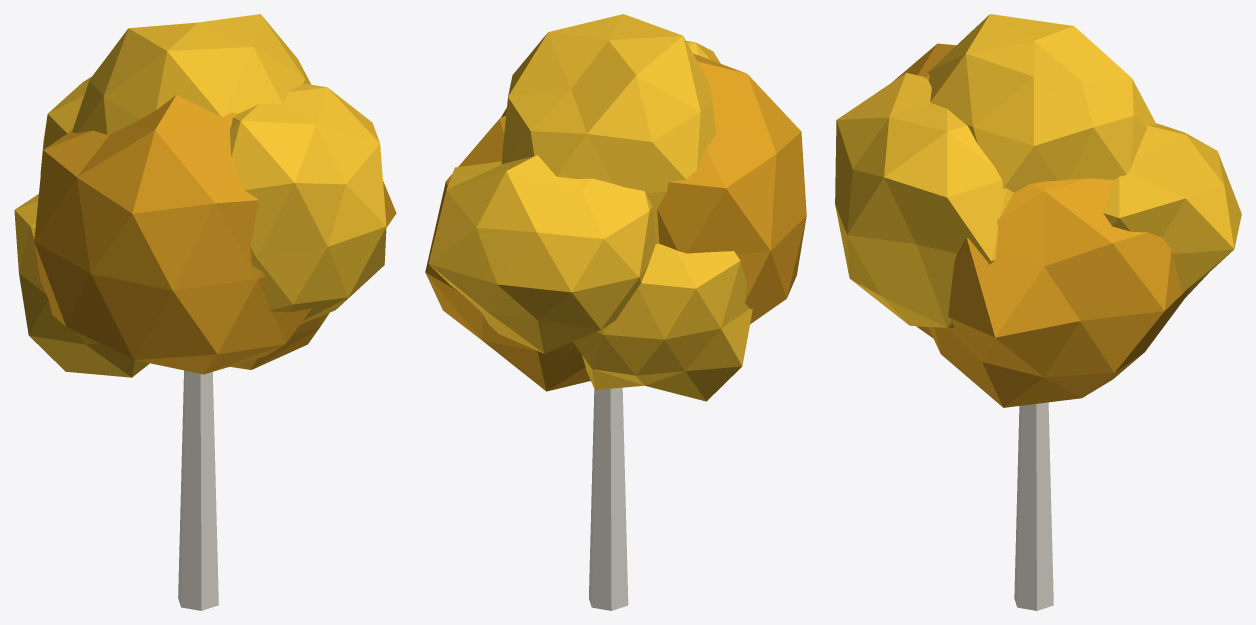
Rendered from tree_birch.glb.
3 views of the same model, side by side, from view 1: azimuth 30°, elevation 25°; view 2: azimuth 150°, elevation 25°; view 3: azimuth 270°, elevation 25° (orthographic). The views are drawn at different scales.
Visible parts, largest first — view 1: tree_birch; view 2: tree_birch; view 3: tree_birch.
Boxes of the visible parts, left/top/right/bottom form: tree_birch: left=14, top=14, right=396, bottom=610; tree_birch: left=425, top=14, right=806, bottom=610; tree_birch: left=835, top=14, right=1241, bottom=610.
Bounding box in the file's own units: 6.95 × 11.21 × 7.35.
